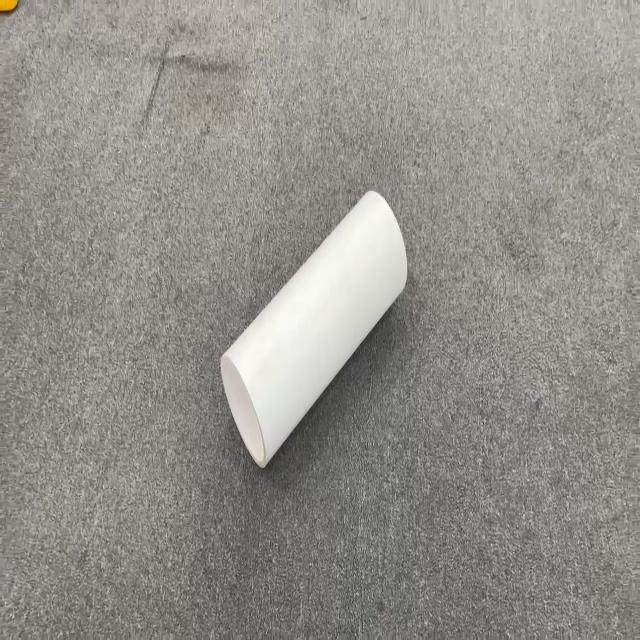coral: (220, 187, 408, 468)
